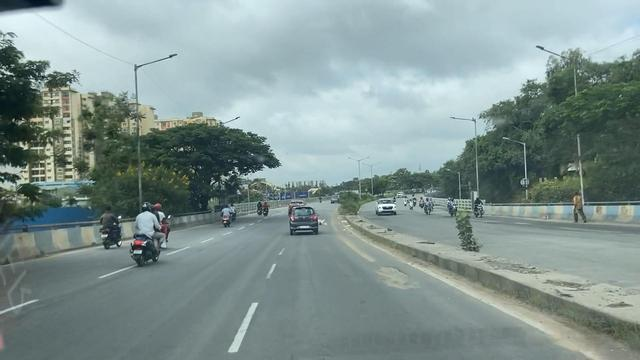LMV: (136, 204, 160, 261), (291, 206, 317, 234), (101, 208, 119, 243), (222, 205, 232, 225)
RoadDamages: (377, 263, 412, 291), (341, 232, 371, 262)
